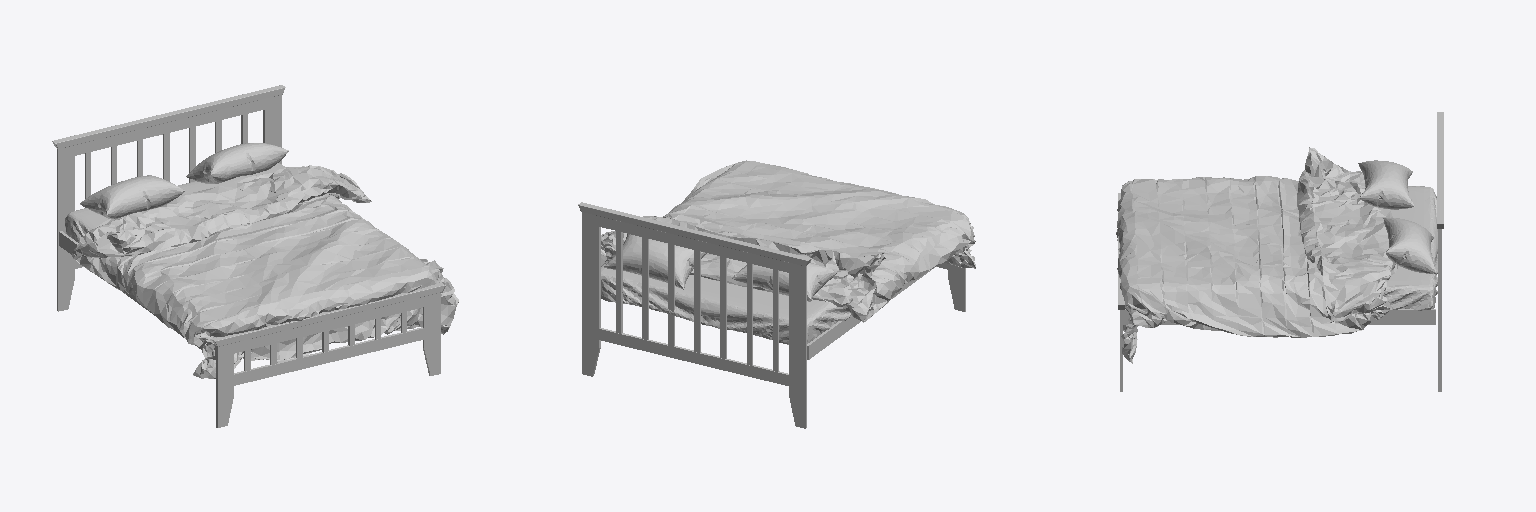
File: Maya_Bed.obj
3 views of the same model, side by side, from view 1: azimuth 30°, elevation 25°; view 2: azimuth 150°, elevation 25°; view 3: azimuth 270°, elevation 25° (orthographic).
Visible parts, largest first — view 1: Letto Maya; view 2: Letto Maya; view 3: Letto Maya.
Boxes of the visible parts, x1=… form: Letto Maya: x1=52, y1=85, x2=458, y2=427; Letto Maya: x1=578, y1=160, x2=975, y2=428; Letto Maya: x1=1116, y1=112, x2=1443, y2=391.
Bounding box in the file's own units: 2.09 × 1.2 × 2.1.